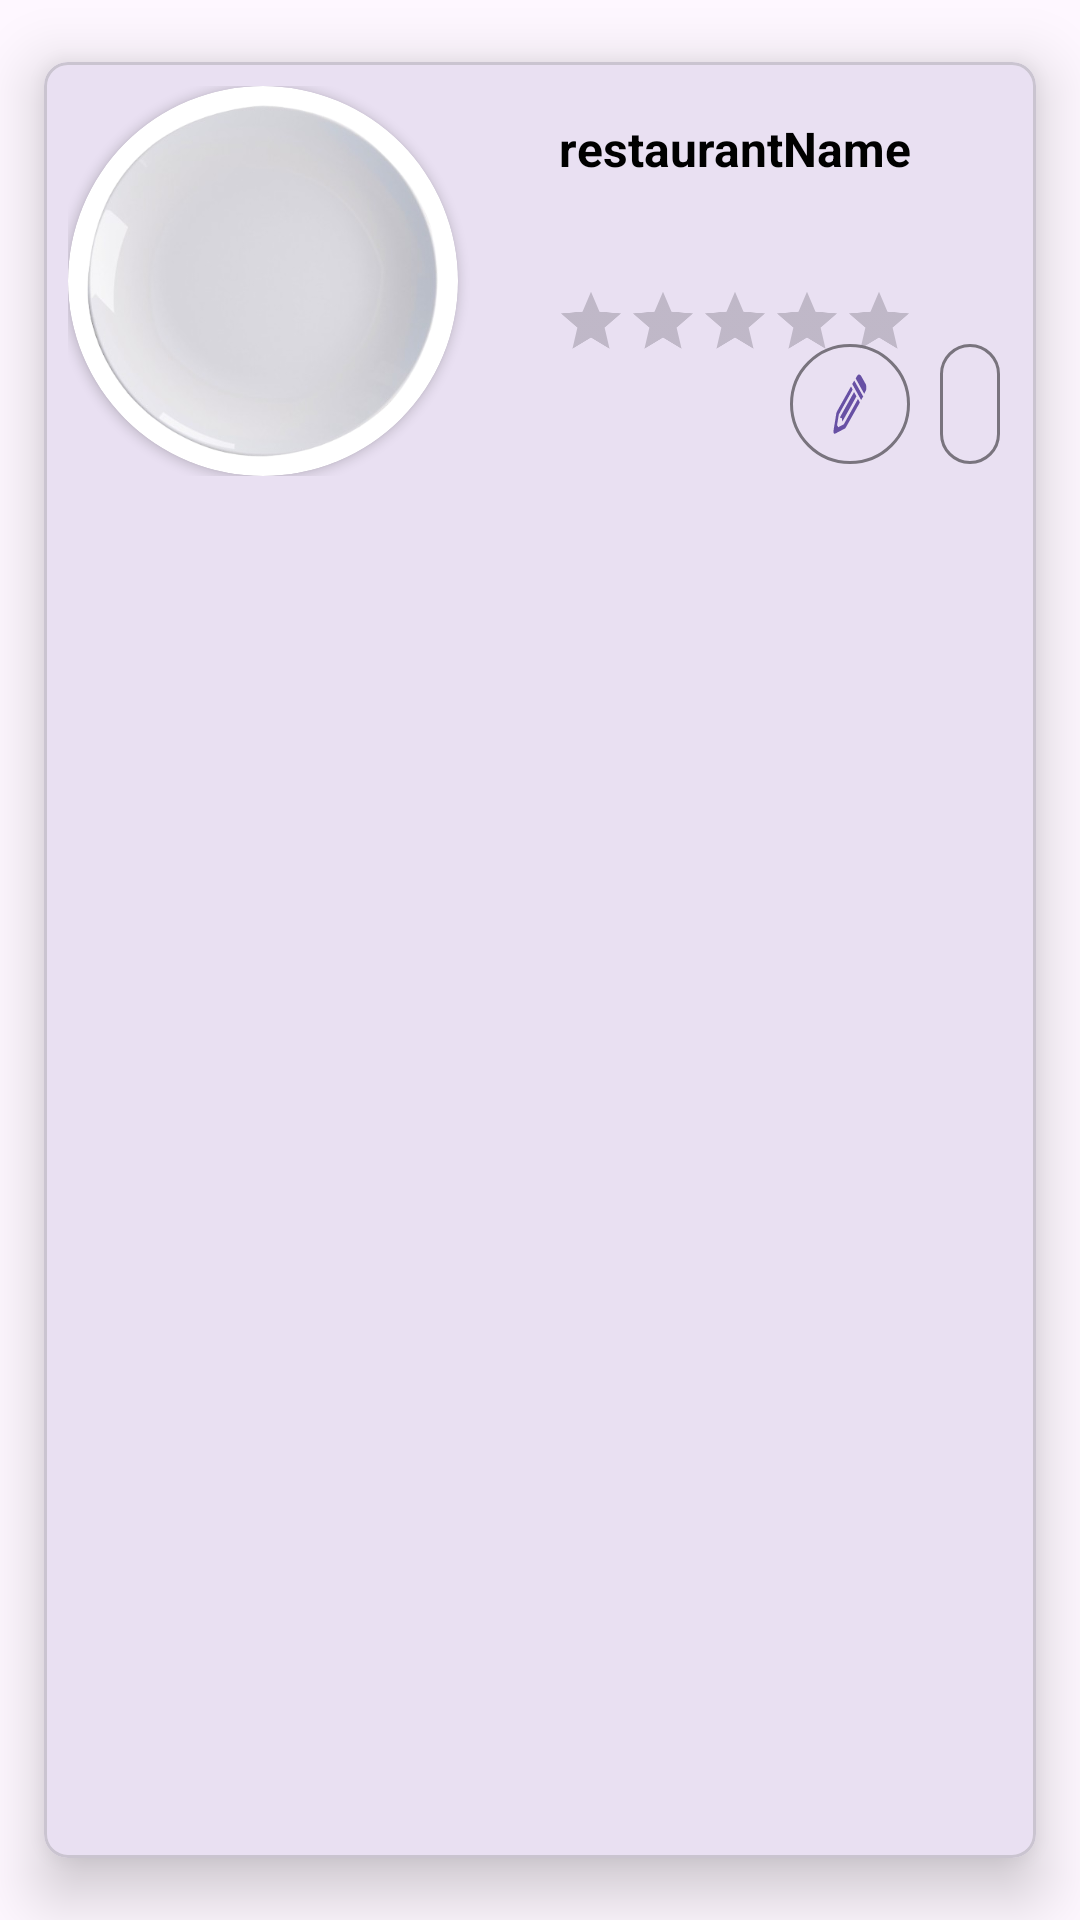

Point at icon controls on the screen. Image size 1080 x 1920, points as point (x, y).
edit: point (849, 398)
